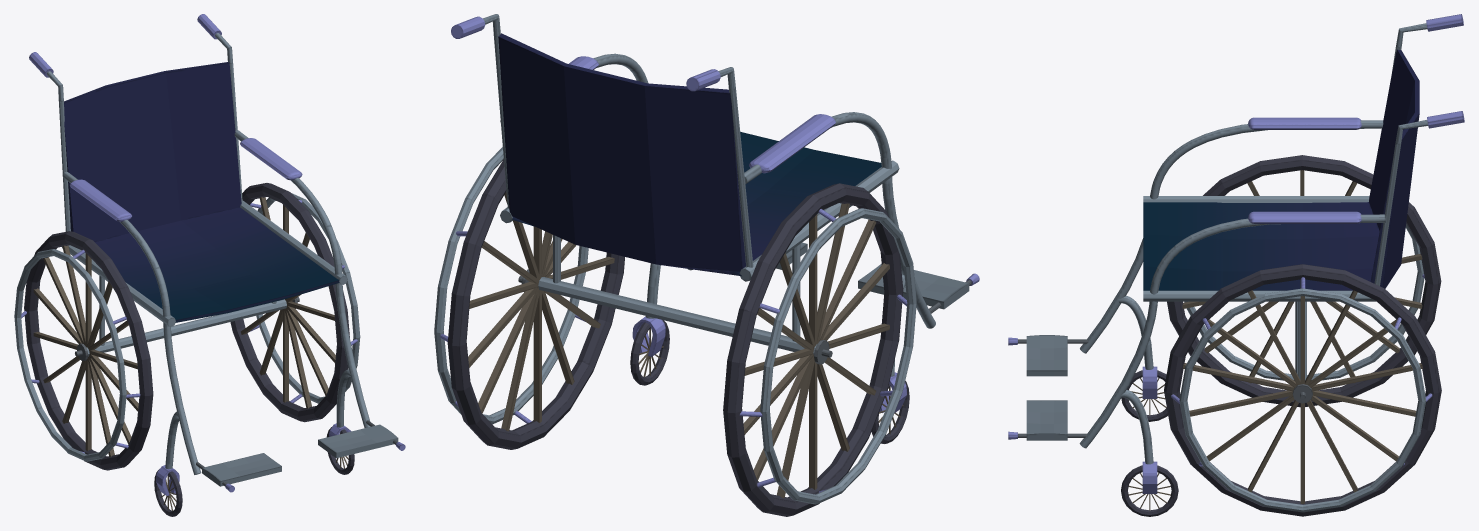
File: CUPIC_WHEELCHAIR.fbx
The picture shows the model from 3 angles, left to right: view 1: azimuth 30°, elevation 25°; view 2: azimuth 150°, elevation 25°; view 3: azimuth 270°, elevation 25°; orthographic projection. The views are drawn at different scales.
Visible parts, largest first — view 1: CUPIC_WHEELCHAIR; view 2: CUPIC_WHEELCHAIR; view 3: CUPIC_WHEELCHAIR.
Boxes of the visible parts, bbox=[...] form: CUPIC_WHEELCHAIR: bbox=[14, 14, 405, 516]; CUPIC_WHEELCHAIR: bbox=[434, 14, 979, 516]; CUPIC_WHEELCHAIR: bbox=[1008, 14, 1464, 516].
Bounding box in the file's own units: 74.87 × 108 × 109.
Materials: 1 (1 with a texture image).
